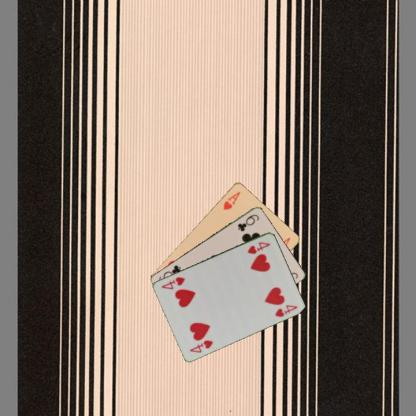4h: (188, 336, 214, 354), (245, 240, 272, 256)
6c: (235, 212, 261, 232)
Ah: (221, 189, 242, 211)
